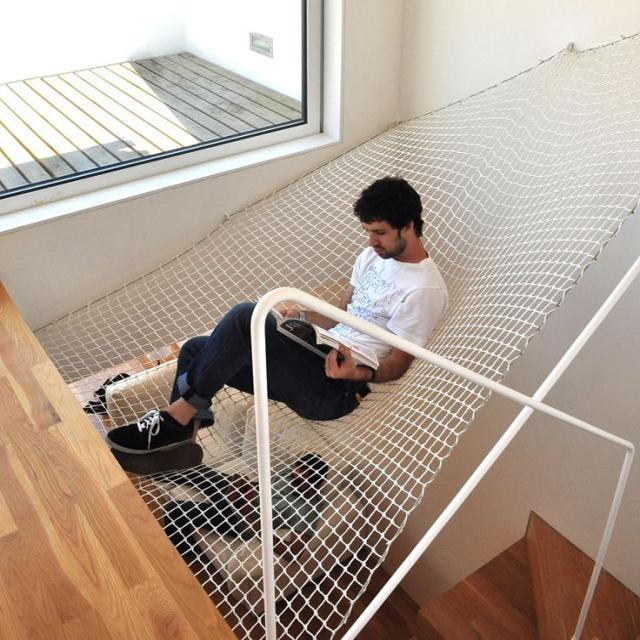person: (105, 175, 449, 456)
